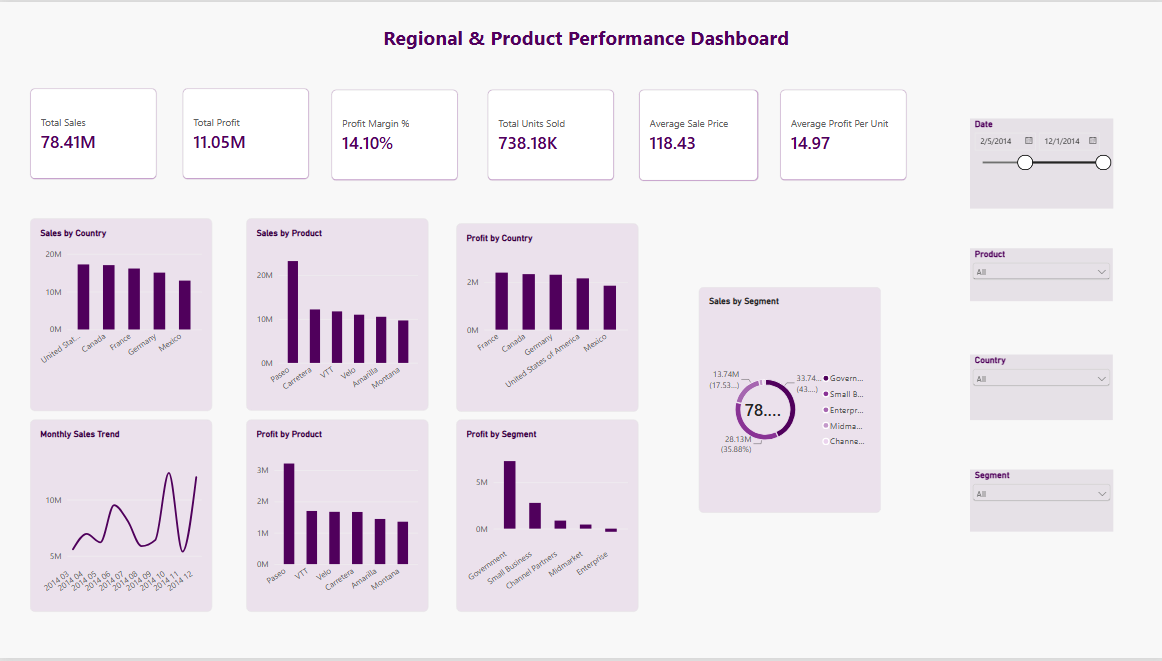

The dashboard page shown, as its layout file describes it:
{"tool":"powerbi","page":{"name":"Page 1","canvas":[1920,1080],"ordinal":0},"visuals":[{"type":"textbox","box":[10.3,37,1910.1,67.9],"z":0},{"type":"cardVisual","fields":{"Data":["financials.Total Sales"]},"box":[48.7,141,209.1,150],"z":1000},{"type":"cardVisual","fields":{"Data":["financials.Total Profit"]},"box":[300,141,209,150],"z":2000},{"type":"cardVisual","fields":{"Data":["financials.Profit Margin %"]},"box":[546.2,143.6,209,150],"z":3000},{"type":"cardVisual","fields":{"Data":["financials.Total Units Sold"]},"box":[802.6,143.6,209,150],"z":4000},{"type":"cardVisual","fields":{"Data":["financials.Average Sale Price"]},"box":[1051.3,143.6,197.4,151.3],"z":5000},{"type":"cardVisual","fields":{"Data":["financials.Average Profit Per Unit"]},"box":[1284.6,143.6,209,150],"z":6000},{"type":"clusteredColumnChart","title":" Sales by Country","fields":{"Category":["financials.Country"],"Y":["financials.Total Sales"]},"box":[48.7,356.4,300,317.9],"z":7000},{"type":"clusteredColumnChart","title":"Sales by Product","fields":{"Category":["financials.Product"],"Y":["financials.Total Sales"]},"box":[405.1,356.4,300,317],"z":8000},{"type":"clusteredColumnChart","title":" Profit by Country","fields":{"Category":["financials.Country"],"Y":["financials.Total Profit"]},"box":[751.3,364.1,300,310],"z":9000},{"type":"donutChart","title":"Sales by Segment","fields":{"Category":["financials.Segment"],"Y":["financials.Total Sales"]},"box":[1151.3,469.2,300,371.8],"z":10000},{"type":"clusteredColumnChart","title":" Profit by Segment","fields":{"Category":["financials.Segment"],"Y":["financials.Total Profit"]},"box":[751.3,687.2,300,317],"z":11000},{"type":"lineChart","title":"Monthly  Sales Trend ","fields":{"Category":["Calendar Table.Month Year"],"Y":["financials.Total Sales"]},"box":[49,687,300,317],"z":12000},{"type":"clusteredColumnChart","title":"Profit by Product","fields":{"Category":["financials.Product"],"Y":["financials.Total Profit"]},"box":[405.1,687.2,300,317],"z":13000},{"type":"slicer","fields":{"Values":["Calendar Table.Date"]},"box":[1597.4,192.3,235.9,148.7],"z":14000},{"type":"slicer","fields":{"Values":["financials.Product"]},"box":[1597.4,405.1,235,87.2],"z":15000},{"type":"slicer","fields":{"Values":["financials.Country"]},"box":[1597.4,579.5,235,107.7],"z":16000},{"type":"slicer","fields":{"Values":["financials.Segment"]},"box":[1597.4,769.2,235.9,102.6],"z":17000}]}

Visuals, with their boxes in screenshot pixels (x1, y1, x2, y2), scaled from the page's 1920x1080 canvas onto the 1162x661 screenshot:
textbox: x1=6 y1=23 x2=1161 y2=64
cardVisual - financials.Total Sales: x1=29 y1=86 x2=156 y2=178
cardVisual - financials.Total Profit: x1=182 y1=86 x2=308 y2=178
cardVisual - financials.Profit Margin %: x1=331 y1=88 x2=457 y2=180
cardVisual - financials.Total Units Sold: x1=486 y1=88 x2=612 y2=180
cardVisual - financials.Average Sale Price: x1=636 y1=88 x2=756 y2=180
cardVisual - financials.Average Profit Per Unit: x1=777 y1=88 x2=904 y2=180
" Sales by Country" clusteredColumnChart: x1=29 y1=218 x2=211 y2=413
"Sales by Product" clusteredColumnChart: x1=245 y1=218 x2=427 y2=412
" Profit by Country" clusteredColumnChart: x1=455 y1=223 x2=636 y2=413
"Sales by Segment" donutChart: x1=697 y1=287 x2=878 y2=515
" Profit by Segment" clusteredColumnChart: x1=455 y1=421 x2=636 y2=615
"Monthly  Sales Trend " lineChart: x1=30 y1=420 x2=211 y2=614
"Profit by Product" clusteredColumnChart: x1=245 y1=421 x2=427 y2=615
slicer - Calendar Table.Date: x1=967 y1=118 x2=1110 y2=209
slicer - financials.Product: x1=967 y1=248 x2=1109 y2=301
slicer - financials.Country: x1=967 y1=355 x2=1109 y2=421
slicer - financials.Segment: x1=967 y1=471 x2=1110 y2=534
